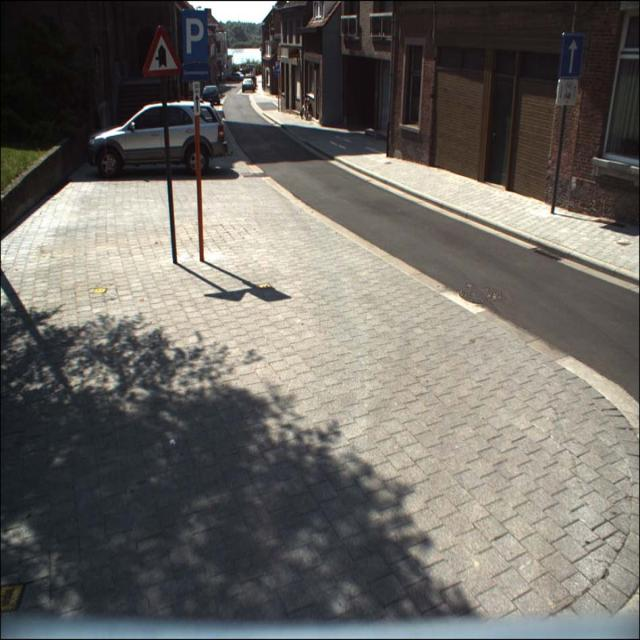park: (182, 10, 208, 62)
